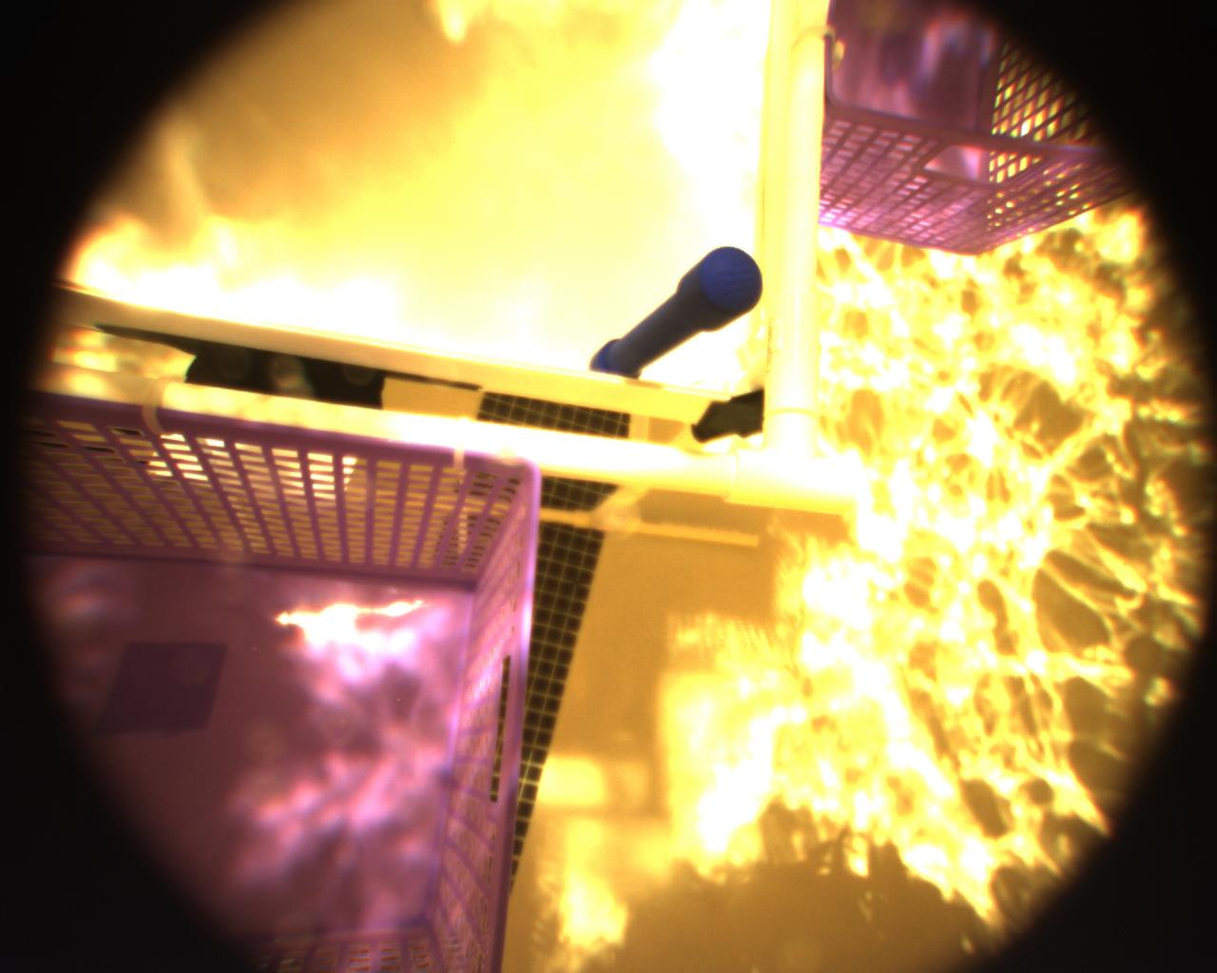coral: (536, 246, 801, 384)
coral-box-top: (28, 0, 773, 495)
